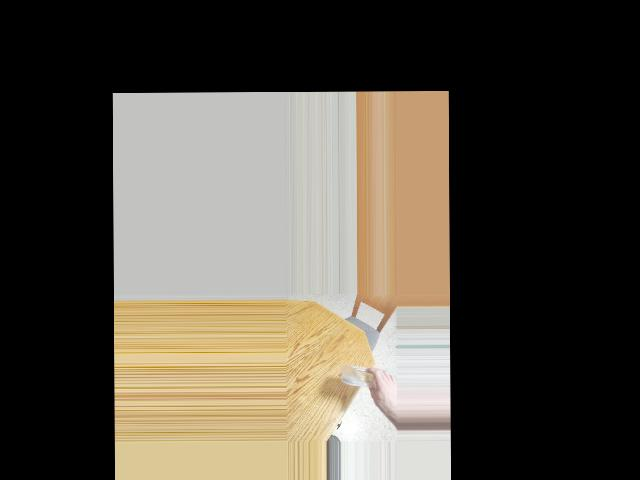cheese: (339, 356, 386, 404)
